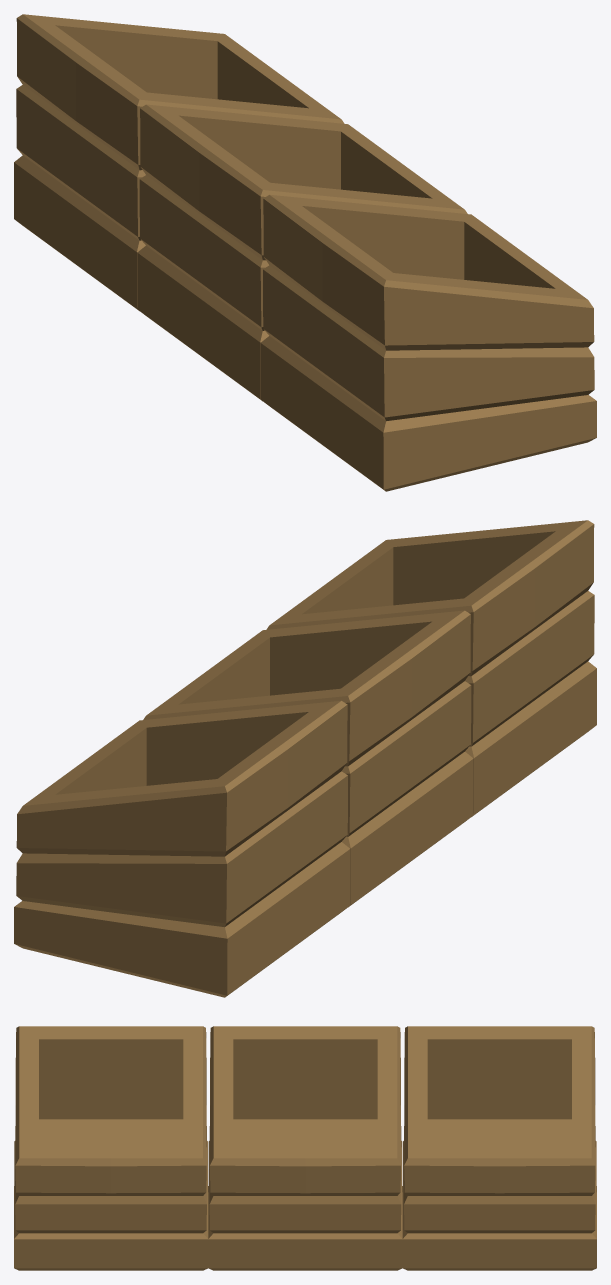
File: Fruit Crate.fbx
3 views of the same model, one above another, from view 1: azimuth 30°, elevation 25°; view 2: azimuth 150°, elevation 25°; view 3: azimuth 270°, elevation 25° (orthographic). The views are drawn at different scales.
Parts seen in each view (by area): view 1: Fruit Crate; view 2: Fruit Crate; view 3: Fruit Crate.
Boxes of the visible parts, x1,y1,x2,y2 form: Fruit Crate: (14,14,596,491); Fruit Crate: (14,520,596,997); Fruit Crate: (14,1026,596,1270).
Size of the model in its own units: 1.28 by 3.84 by 1.21.
